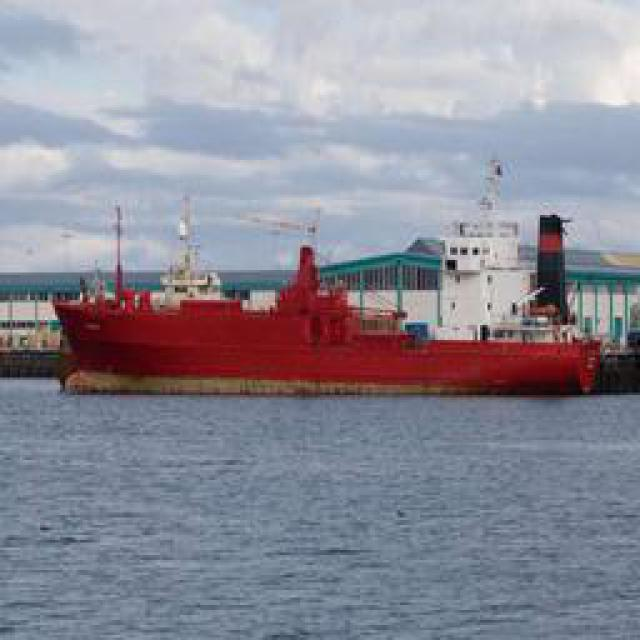Ship: (56, 226, 614, 399)
